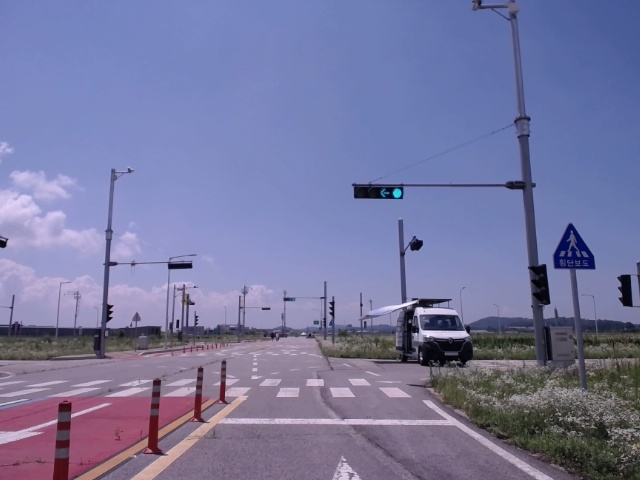all_green_4: (355, 187, 400, 198)
